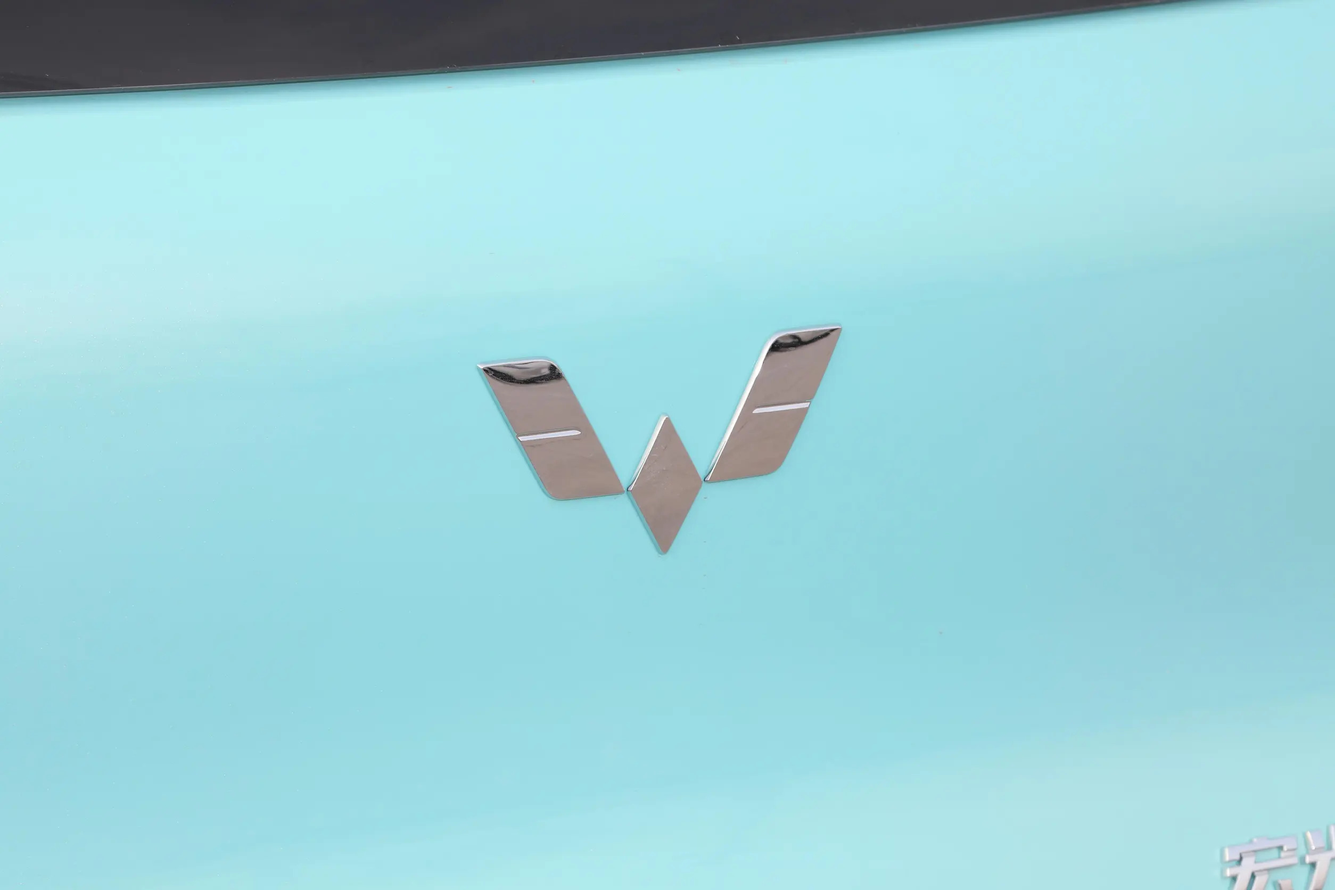SGMW: (477, 326, 842, 554)
